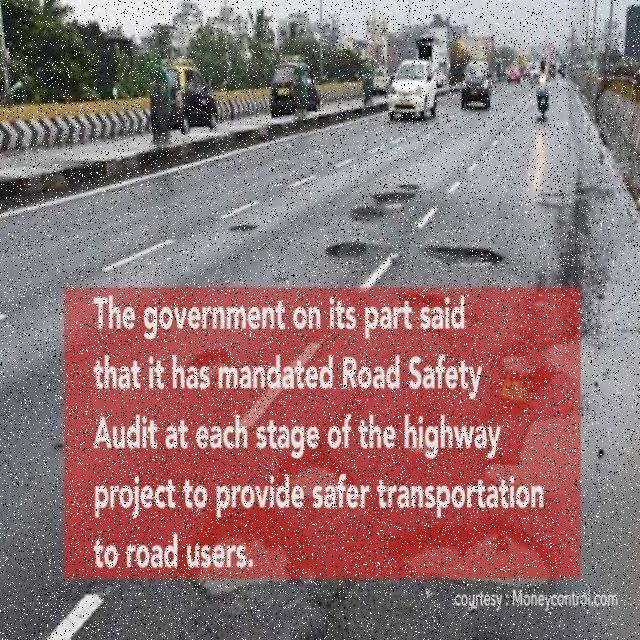pothole: (390, 516, 548, 594), (187, 519, 297, 604), (483, 459, 631, 500), (277, 454, 361, 500), (543, 341, 636, 380), (424, 242, 508, 276), (182, 351, 230, 385), (324, 234, 371, 258), (374, 191, 414, 212), (351, 208, 386, 227), (224, 222, 257, 234)
